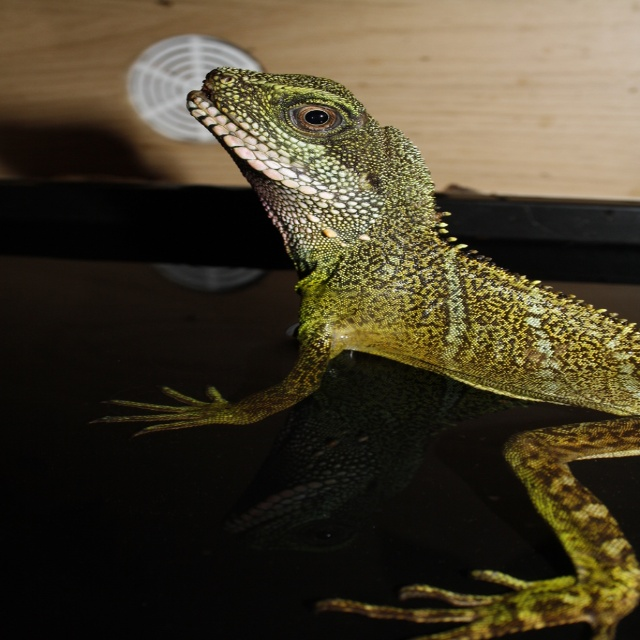Lizard: (101, 18, 607, 577)
